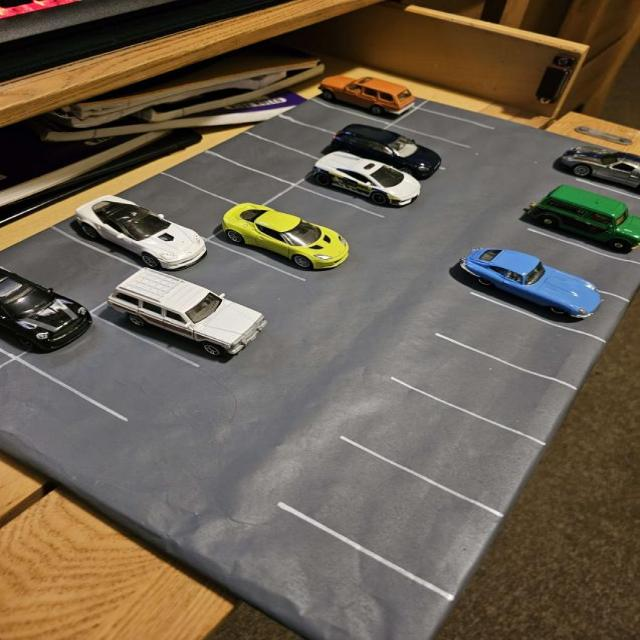Empty: (277, 432, 507, 604), (337, 377, 553, 518), (10, 306, 206, 421), (388, 333, 582, 447), (435, 291, 607, 393), (3, 225, 158, 318), (500, 228, 640, 304), (253, 184, 391, 251), (115, 172, 249, 238), (159, 151, 301, 211), (206, 131, 332, 188), (273, 99, 402, 144), (244, 112, 354, 163), (388, 107, 497, 149), (557, 179, 640, 221)
Taken: (91, 275, 266, 365), (471, 248, 631, 344), (51, 193, 211, 277), (205, 205, 355, 280), (0, 263, 94, 357), (529, 193, 640, 266), (292, 157, 424, 216), (327, 131, 446, 186), (310, 83, 420, 127), (572, 136, 640, 201)
